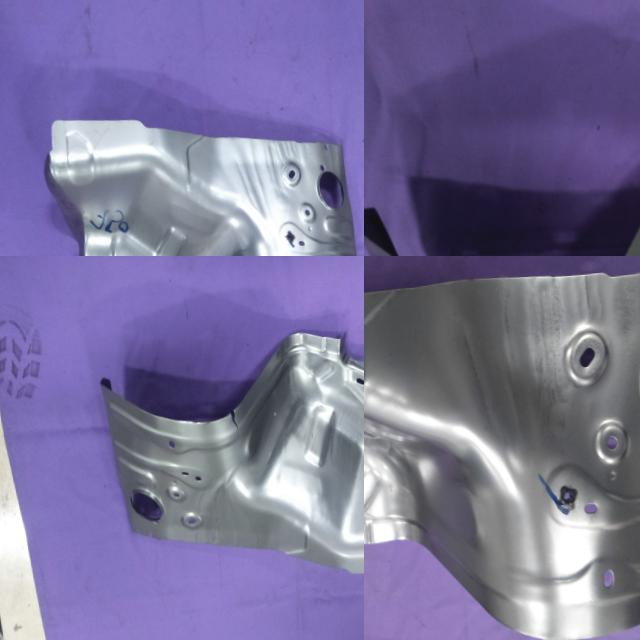Defect: (228, 408, 245, 442)
Healthy: (364, 256, 640, 640), (39, 96, 364, 256)
rust: (187, 417, 222, 435)
